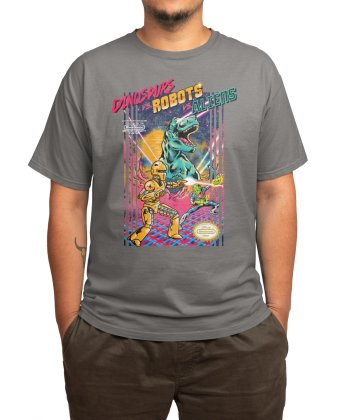design: (109, 75, 239, 250)
